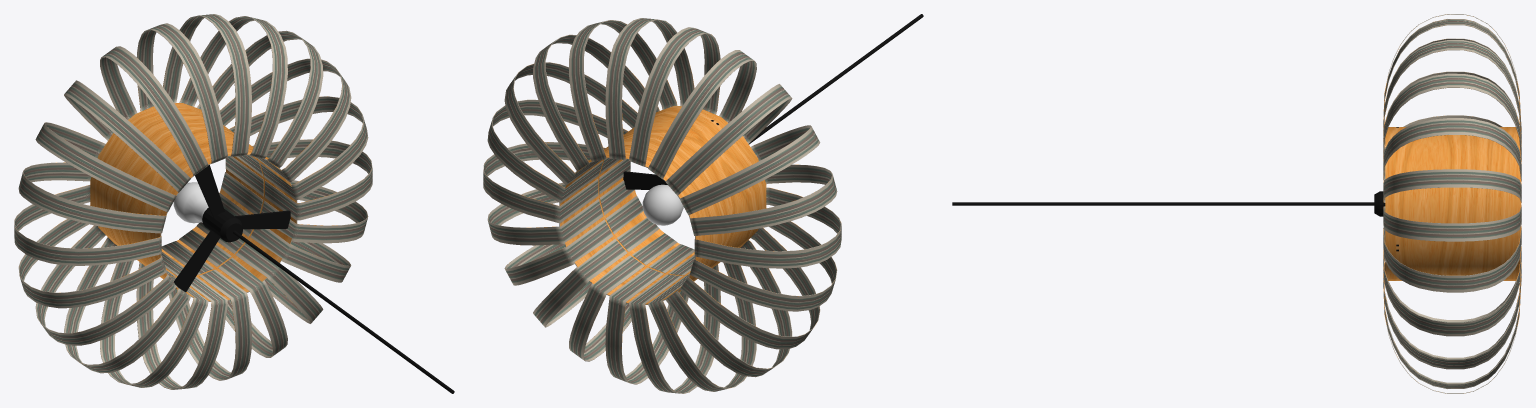
Rendered from Fixture.obj.
3 renders of one model, left to right at view 1: azimuth 30°, elevation 25°; view 2: azimuth 150°, elevation 25°; view 3: azimuth 270°, elevation 25°, orthographic. The views are drawn at different scales.
Parts seen in each view (by area): view 1: ceiling_fixture_22, ceiling_fixture_30, ceiling_fixture_33, ceiling_fixture_32, ceiling_fixture_34, ceiling_fixture_1, ceiling_fixture_28, ceiling_fixture_29, ceiling_fixture_23, ceiling_fixture_31, ceiling_fixture_35, ceiling_fixture_40 (+14 smaller); view 2: ceiling_fixture_22, ceiling_fixture_30, ceiling_fixture_33, ceiling_fixture_32, ceiling_fixture_40, ceiling_fixture_1, ceiling_fixture_34, ceiling_fixture_28, ceiling_fixture_29, ceiling_fixture_41, ceiling_fixture_43, ceiling_fixture_44 (+14 smaller); view 3: ceiling_fixture_22, ceiling_fixture_25, ceiling_fixture_24, ceiling_fixture_1, ceiling_fixture_26, ceiling_fixture_27, ceiling_fixture_44, ceiling_fixture_19, ceiling_fixture_28, ceiling_fixture_43, ceiling_fixture_29, ceiling_fixture_42.
Boxes of the visible parts, left/top/right/bottom form: ceiling_fixture_22: left=90, top=103, right=297, bottom=301; ceiling_fixture_30: left=100, top=46, right=208, bottom=176; ceiling_fixture_33: left=18, top=162, right=166, bottom=233; ceiling_fixture_32: left=35, top=122, right=176, bottom=212; ceiling_fixture_34: left=14, top=185, right=161, bottom=265; ceiling_fixture_1: left=225, top=139, right=372, bottom=220; ceiling_fixture_28: left=163, top=14, right=251, bottom=156; ceiling_fixture_29: left=136, top=23, right=227, bottom=163; ceiling_fixture_23: left=174, top=165, right=290, bottom=292; ceiling_fixture_31: left=64, top=80, right=190, bottom=192; ceiling_fixture_35: left=18, top=219, right=166, bottom=308; ceiling_fixture_40: left=161, top=241, right=251, bottom=380; ceiling_fixture_22: left=559, top=105, right=766, bottom=304; ceiling_fixture_30: left=648, top=50, right=756, bottom=179; ceiling_fixture_33: left=689, top=164, right=837, bottom=235; ceiling_fixture_32: left=680, top=125, right=820, bottom=215; ceiling_fixture_40: left=605, top=244, right=694, bottom=384; ceiling_fixture_1: left=483, top=142, right=630, bottom=223; ceiling_fixture_34: left=694, top=187, right=841, bottom=268; ceiling_fixture_28: left=605, top=18, right=694, bottom=159; ceiling_fixture_29: left=629, top=27, right=720, bottom=166; ceiling_fixture_41: left=569, top=232, right=677, bottom=361; ceiling_fixture_43: left=504, top=196, right=643, bottom=285; ceiling_fixture_44: left=487, top=180, right=635, bottom=245; ceiling_fixture_22: left=1385, top=127, right=1521, bottom=280; ceiling_fixture_25: left=1383, top=169, right=1521, bottom=202; ceiling_fixture_24: left=1383, top=206, right=1521, bottom=241; ceiling_fixture_1: left=1383, top=227, right=1521, bottom=292; ceiling_fixture_26: left=1383, top=118, right=1521, bottom=181; ceiling_fixture_27: left=1383, top=73, right=1521, bottom=161; ceiling_fixture_44: left=1383, top=247, right=1521, bottom=336; ceiling_fixture_19: left=952, top=202, right=1374, bottom=205; ceiling_fixture_28: left=1383, top=40, right=1521, bottom=145; ceiling_fixture_43: left=1383, top=263, right=1521, bottom=369; ceiling_fixture_29: left=1383, top=19, right=1521, bottom=133; ceiling_fixture_42: left=1383, top=274, right=1521, bottom=388.
Size of the model in its own units: 103 by 103 by 155.
Materials: 4 (1 with a texture image).
